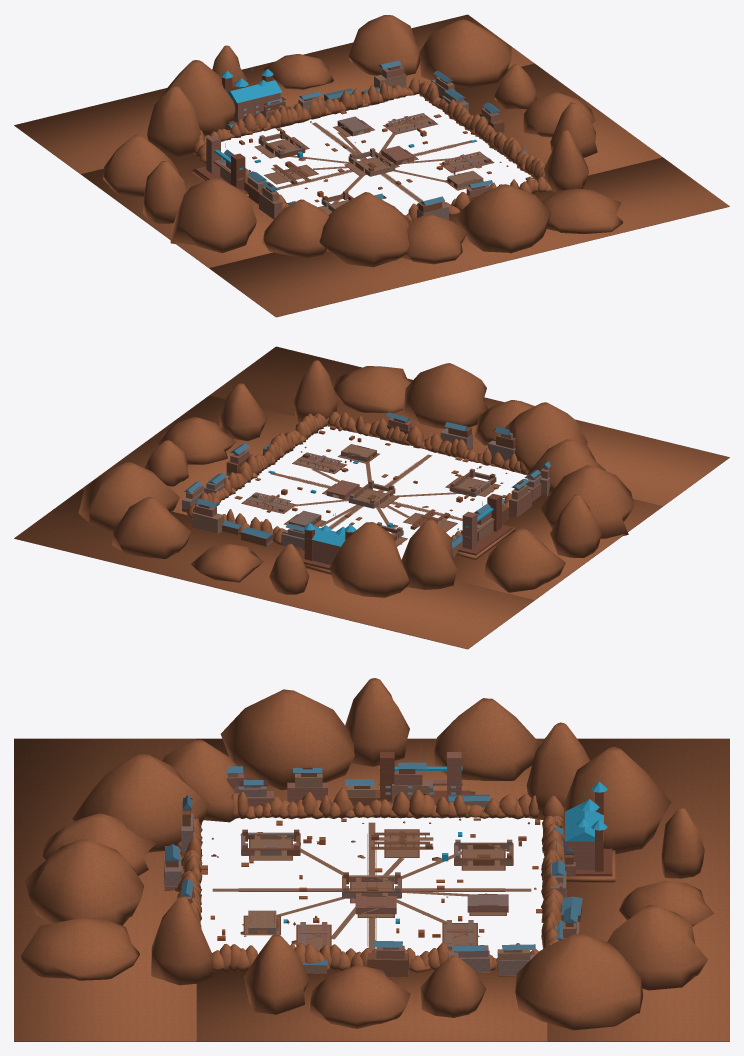
File: kyokoku-lod1.glb
The picture shows the model from 3 angles, top to bottom: view 1: azimuth 30°, elevation 25°; view 2: azimuth 150°, elevation 25°; view 3: azimuth 270°, elevation 25°; orthographic projection. The views are drawn at different scales.
Parts seen in each view (by area): view 1: HB_kyokoku_LOD1_terrain, HB_kyokoku_LOD1_road, HB_kyokoku_LOD1_wall_warm, HB_kyokoku_LOD1_wall, HB_kyokoku_LOD1_wall_weathered, HB_kyokoku_LOD1_wall_cool, HB_kyokoku_LOD1_roof, HB_kyokoku_LOD1_LANDMARK_0_accent, HB_kyokoku_LOD1_wall_alt, HB_kyokoku_LOD1_LANDMARK_1_wall_alt, HB_kyokoku_LOD1_LANDMARK_0_wall, HB_kyokoku_LOD1_LANDMARK_1_wall (+1 smaller); view 2: HB_kyokoku_LOD1_terrain, HB_kyokoku_LOD1_road, HB_kyokoku_LOD1_wall_cool, HB_kyokoku_LOD1_wall_warm, HB_kyokoku_LOD1_wall, HB_kyokoku_LOD1_wall_weathered, HB_kyokoku_LOD1_roof, HB_kyokoku_LOD1_LANDMARK_1_wall_alt, HB_kyokoku_LOD1_wall_alt, HB_kyokoku_LOD1_obstacle, HB_kyokoku_LOD1_LANDMARK_0_accent, HB_kyokoku_LOD1_LANDMARK_1_wall (+1 smaller); view 3: HB_kyokoku_LOD1_terrain, HB_kyokoku_LOD1_road, HB_kyokoku_LOD1_wall_cool, HB_kyokoku_LOD1_wall, HB_kyokoku_LOD1_wall_weathered, HB_kyokoku_LOD1_wall_warm, HB_kyokoku_LOD1_roof, HB_kyokoku_LOD1_LANDMARK_0_accent, HB_kyokoku_LOD1_wall_alt, HB_kyokoku_LOD1_obstacle, HB_kyokoku_LOD1_LANDMARK_0_wall_alt, HB_kyokoku_LOD1_LANDMARK_1_wall_alt (+2 smaller).
Part boxes in pixels (x1=…): HB_kyokoku_LOD1_terrain: x1=14, y1=14, x2=729, y2=317; HB_kyokoku_LOD1_road: x1=255, y1=115, x2=493, y2=214; HB_kyokoku_LOD1_wall_warm: x1=220, y1=73, x2=483, y2=211; HB_kyokoku_LOD1_wall: x1=226, y1=65, x2=499, y2=219; HB_kyokoku_LOD1_wall_weathered: x1=244, y1=65, x2=504, y2=212; HB_kyokoku_LOD1_wall_cool: x1=258, y1=79, x2=504, y2=220; HB_kyokoku_LOD1_roof: x1=221, y1=60, x2=527, y2=205; HB_kyokoku_LOD1_LANDMARK_0_accent: x1=221, y1=67, x2=281, y2=103; HB_kyokoku_LOD1_wall_alt: x1=254, y1=115, x2=494, y2=214; HB_kyokoku_LOD1_LANDMARK_1_wall_alt: x1=195, y1=153, x2=247, y2=193; HB_kyokoku_LOD1_LANDMARK_0_wall: x1=233, y1=93, x2=280, y2=122; HB_kyokoku_LOD1_LANDMARK_1_wall: x1=206, y1=135, x2=243, y2=180; HB_kyokoku_LOD1_terrain: x1=14, y1=346, x2=729, y2=649; HB_kyokoku_LOD1_road: x1=241, y1=453, x2=499, y2=546; HB_kyokoku_LOD1_wall_cool: x1=182, y1=428, x2=541, y2=550; HB_kyokoku_LOD1_wall_warm: x1=186, y1=444, x2=550, y2=556; HB_kyokoku_LOD1_wall: x1=193, y1=417, x2=549, y2=534; HB_kyokoku_LOD1_wall_weathered: x1=182, y1=418, x2=524, y2=546; HB_kyokoku_LOD1_roof: x1=184, y1=412, x2=550, y2=548; HB_kyokoku_LOD1_LANDMARK_1_wall_alt: x1=458, y1=494, x2=512, y2=555; HB_kyokoku_LOD1_wall_alt: x1=241, y1=453, x2=523, y2=546; HB_kyokoku_LOD1_obstacle: x1=234, y1=426, x2=506, y2=525; HB_kyokoku_LOD1_LANDMARK_0_accent: x1=304, y1=513, x2=356, y2=546; HB_kyokoku_LOD1_LANDMARK_1_wall: x1=462, y1=511, x2=494, y2=549; HB_kyokoku_LOD1_terrain: x1=14, y1=678, x2=729, y2=1041; HB_kyokoku_LOD1_road: x1=212, y1=822, x2=531, y2=951; HB_kyokoku_LOD1_wall_cool: x1=164, y1=785, x2=566, y2=976; HB_kyokoku_LOD1_wall: x1=165, y1=771, x2=576, y2=958; HB_kyokoku_LOD1_wall_weathered: x1=165, y1=769, x2=581, y2=977; HB_kyokoku_LOD1_wall_warm: x1=227, y1=773, x2=579, y2=973; HB_kyokoku_LOD1_roof: x1=165, y1=762, x2=582, y2=965; HB_kyokoku_LOD1_LANDMARK_0_accent: x1=565, y1=781, x2=607, y2=841; HB_kyokoku_LOD1_wall_alt: x1=213, y1=766, x2=506, y2=946; HB_kyokoku_LOD1_obstacle: x1=200, y1=818, x2=542, y2=940; HB_kyokoku_LOD1_LANDMARK_0_wall_alt: x1=560, y1=792, x2=612, y2=876; HB_kyokoku_LOD1_LANDMARK_1_wall_alt: x1=380, y1=752, x2=470, y2=803.
Bounding box in the file's own units: 669 × 85.68 × 666.
Materials: 13 (12 with a texture image).
